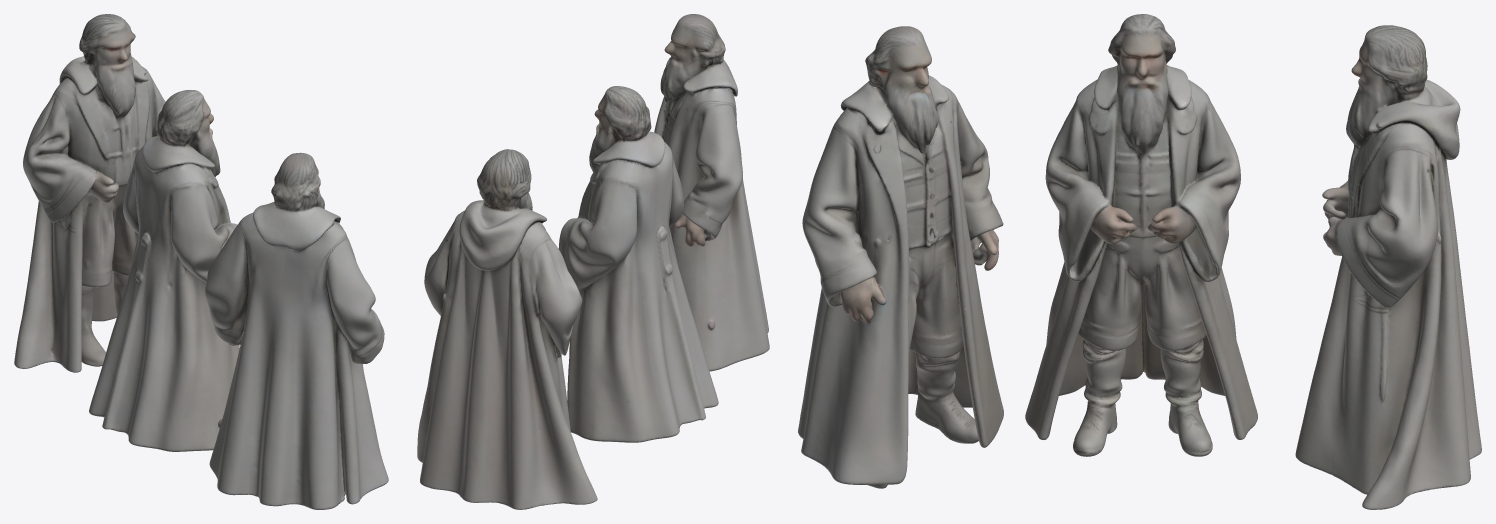
File: detailed_realistic_model_albusdumbledore_27.glb
3 renders of one model, left to right at view 1: azimuth 30°, elevation 25°; view 2: azimuth 150°, elevation 25°; view 3: azimuth 270°, elevation 25°, orthographic. The views are drawn at different scales.
Parts seen in each view (by area): view 1: tripo_node_28435dd2-b1c3-4510-9013-0538ec715026; view 2: tripo_node_28435dd2-b1c3-4510-9013-0538ec715026; view 3: tripo_node_28435dd2-b1c3-4510-9013-0538ec715026.
Boxes of the visible parts, x1,y1,x2,y2 form: tripo_node_28435dd2-b1c3-4510-9013-0538ec715026: [14, 14, 388, 509]; tripo_node_28435dd2-b1c3-4510-9013-0538ec715026: [417, 14, 769, 509]; tripo_node_28435dd2-b1c3-4510-9013-0538ec715026: [798, 14, 1481, 509].
Size of the model in its own units: 0.4293 by 0.6893 by 1.
1 material, 1 textured.
